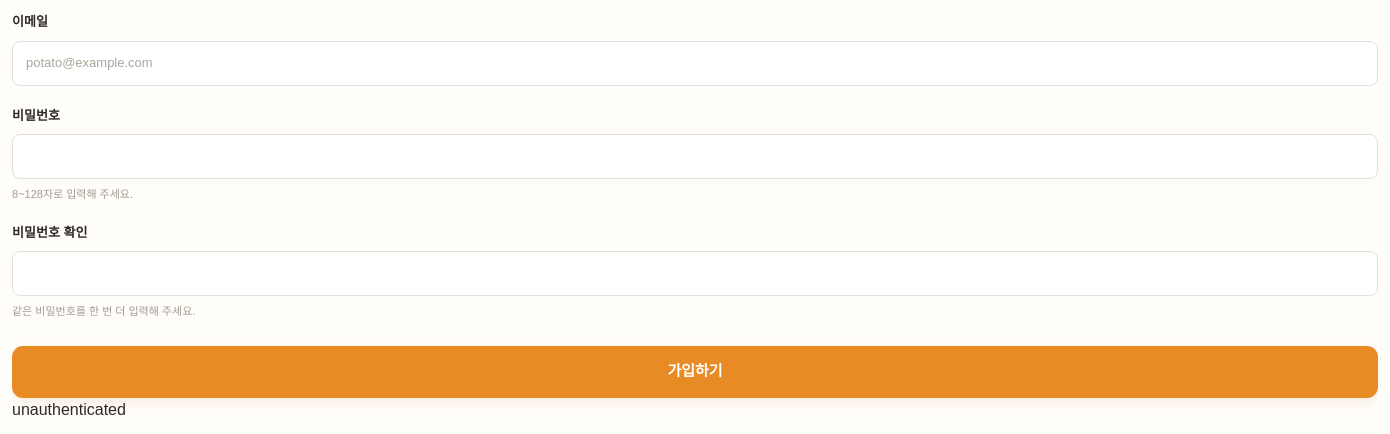
SignupForm › 비밀번호 확인 칸을 벗어날 때(blur) 일치 여부를 검사한다
Check: the text with test id "auth-status" does not show "loading", box [12,400,126,418]
In the password field labelled "비밀번호 확인": (695, 274) [12,251,1378,296], type "gamja1234"
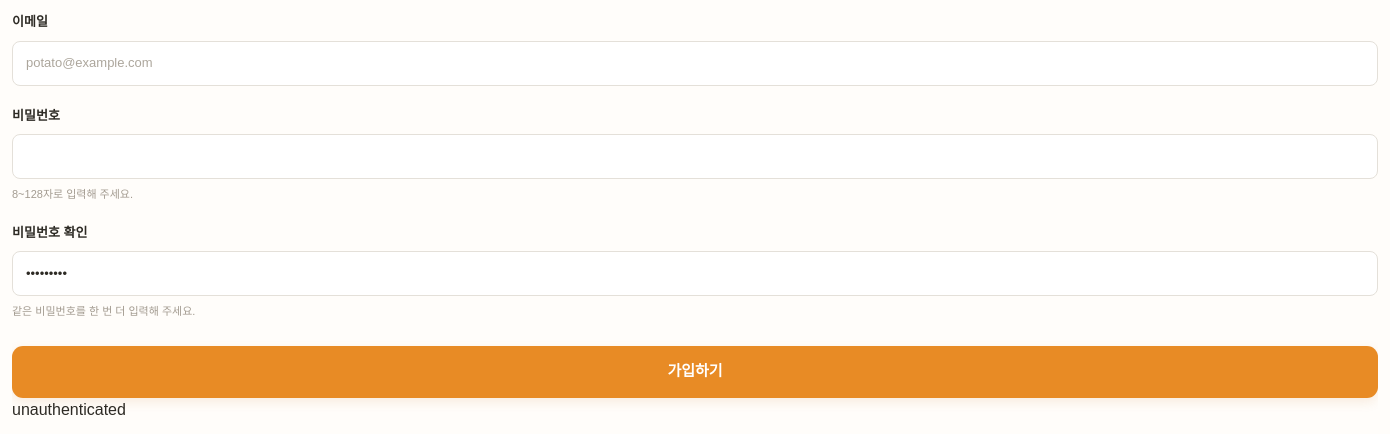
Leave the password field labelled "비밀번호 확인", box [12,251,1378,296]
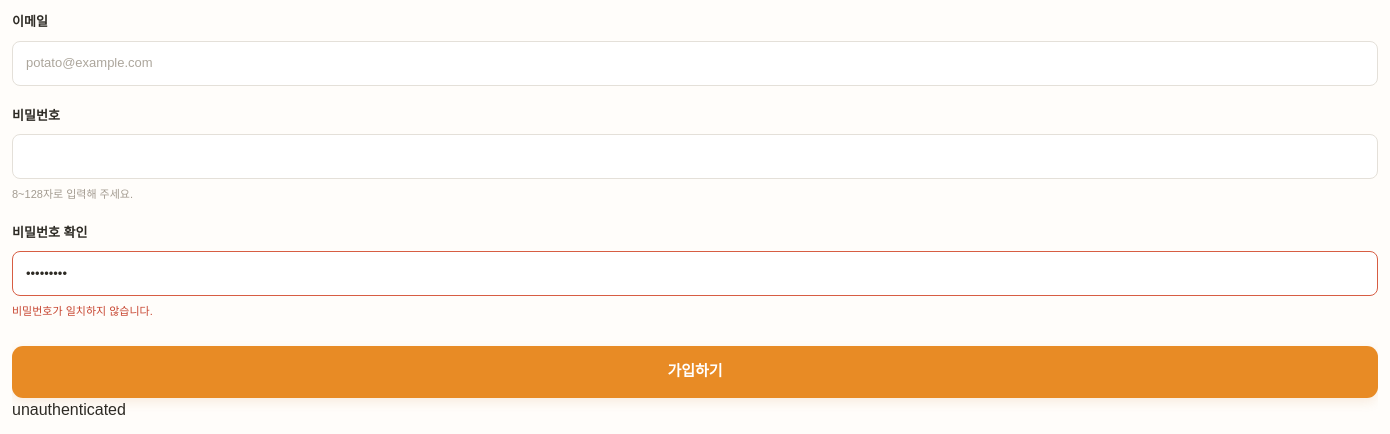
Check: the text "비밀번호가 일치하지 않습니다." is shown, box [12,305,153,317]
